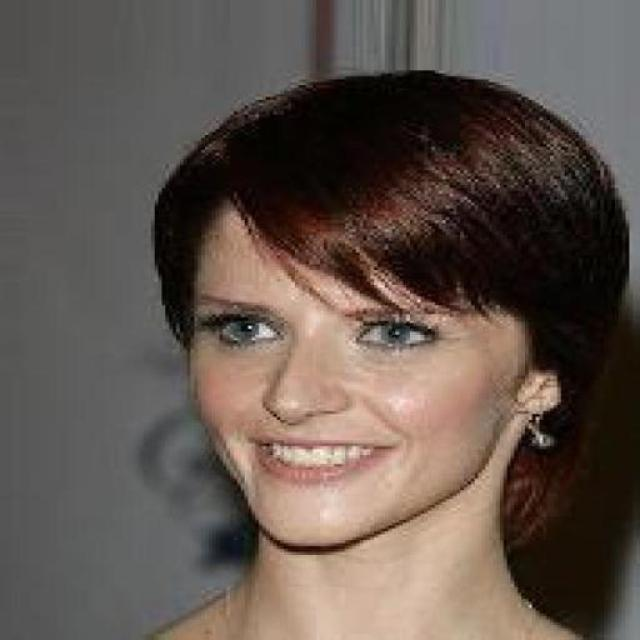bareface: (182, 82, 570, 544)
